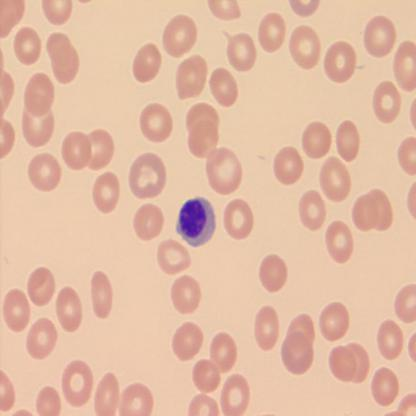NRC: (172, 194, 216, 250)
